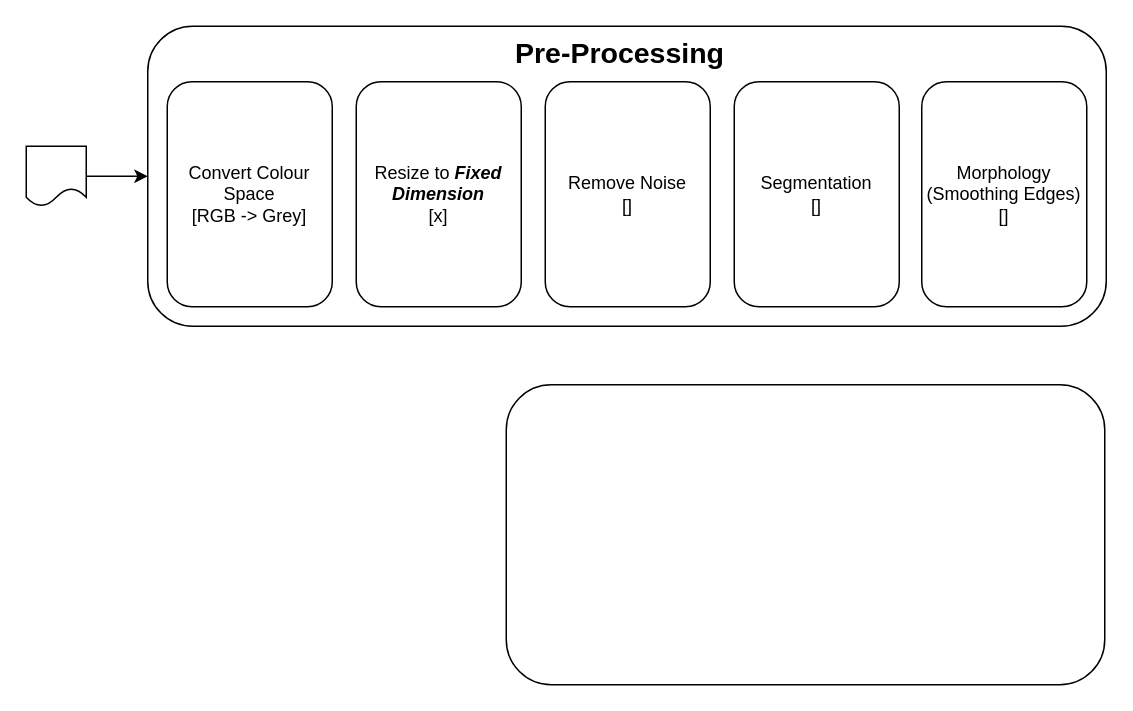
The diagram is 1133 pixels wide and 711 high, and some of its shapes have lost their labels. Here are the shapes that lost their labels. From the top down, the box of each, then its label:
(25, 145, 86, 206): Image
(505, 383, 1105, 685): Feature Extraction
